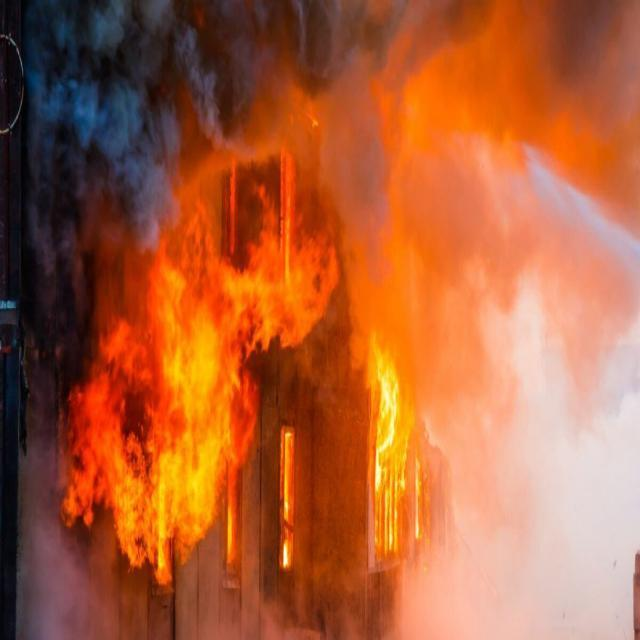Fire: (61, 153, 347, 584), (349, 252, 434, 564)
Smoke: (434, 0, 640, 640), (6, 0, 244, 238), (243, 0, 434, 153), (347, 113, 434, 324), (22, 475, 95, 640)
